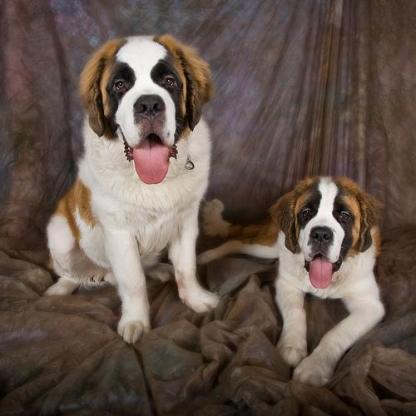Saint_Bernard: (41, 31, 224, 342), (195, 174, 387, 387)
